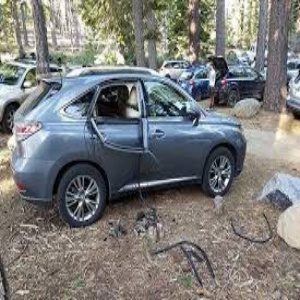door: (104, 130, 176, 187)
